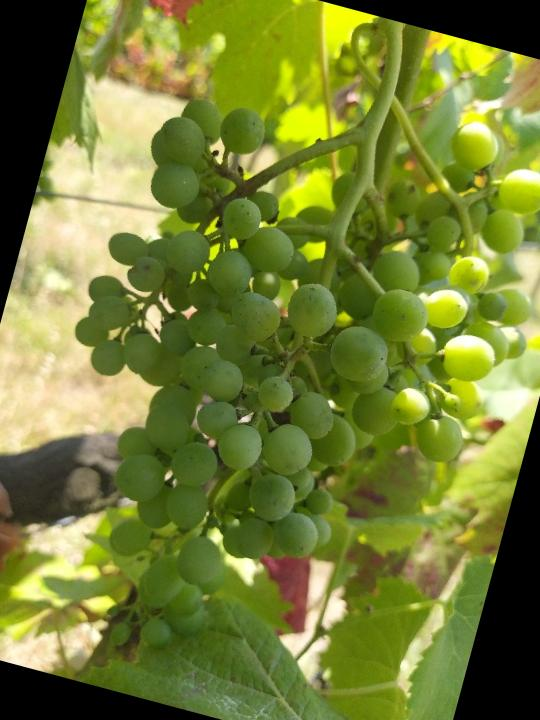grape: (0, 32, 540, 720)
